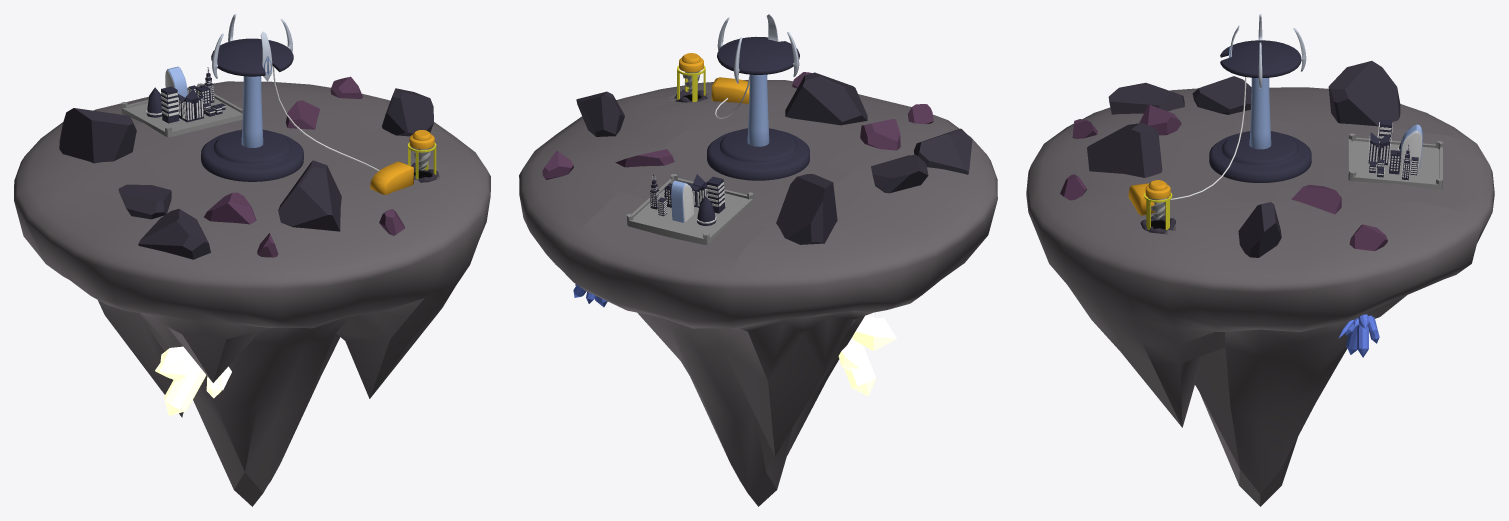
File: GeonovaModel2.fbx
The picture shows the model from 3 angles, left to right: view 1: azimuth 30°, elevation 25°; view 2: azimuth 150°, elevation 25°; view 3: azimuth 270°, elevation 25°; orthographic projection.
Visible parts, largest first — view 1: Cylinder.003, Cylinder.007, Cylinder, Cube.013, Cube.007, Sphere, Cube.011, Cube.016, Cube.010, Cylinder.001, Gem2, Cube.008 (+4 smaller); view 2: Cylinder.003, Cylinder.007, Cylinder, Cube.013, Cube.007, Sphere, Cube.011, Cube.010, Cube.016, Cylinder.001, Cube.008, Gem1.002 (+4 smaller); view 3: Cylinder.003, Cylinder.007, Cylinder, Cube.013, Cube.007, Sphere, Cube.011, Cube.016, Cube.010, Cylinder.001, Cube.014, Cube.008 (+1 smaller).
Boxes of the visible parts, x1=… form: Cylinder.003: x1=14, y1=81, x2=490, y2=506; Cylinder.007: x1=121, y1=66, x2=242, y2=137; Cylinder: x1=201, y1=129, x2=303, y2=181; Cube.013: x1=59, y1=108, x2=136, y2=163; Cube.007: x1=278, y1=160, x2=341, y2=231; Sphere: x1=211, y1=31, x2=293, y2=81; Cube.011: x1=138, y1=209, x2=210, y2=259; Cube.016: x1=382, y1=88, x2=433, y2=136; Cube.010: x1=118, y1=184, x2=171, y2=219; Cylinder.001: x1=241, y1=76, x2=263, y2=147; Gem2: x1=164, y1=364, x2=206, y2=415; Cube.008: x1=204, y1=192, x2=256, y2=224; Cylinder.003: x1=519, y1=80, x2=997, y2=506; Cylinder.007: x1=626, y1=174, x2=753, y2=244; Cylinder: x1=707, y1=128, x2=809, y2=180; Cube.013: x1=776, y1=174, x2=837, y2=244; Cube.007: x1=785, y1=72, x2=867, y2=125; Sphere: x1=717, y1=14, x2=799, y2=74; Cube.011: x1=914, y1=128, x2=972, y2=174; Cube.010: x1=871, y1=155, x2=928, y2=193; Cube.016: x1=576, y1=91, x2=624, y2=136; Cylinder.001: x1=747, y1=74, x2=769, y2=146; Cube.008: x1=860, y1=119, x2=900, y2=150; Gem1.002: x1=852, y1=317, x2=896, y2=350; Cylinder.003: x1=1026, y1=87, x2=1494, y2=506; Cylinder.007: x1=1348, y1=119, x2=1443, y2=190; Cylinder: x1=1209, y1=131, x2=1311, y2=182; Cube.013: x1=1328, y1=61, x2=1400, y2=126; Cube.007: x1=1087, y1=123, x2=1162, y2=177; Sphere: x1=1220, y1=25, x2=1301, y2=77; Cube.011: x1=1108, y1=82, x2=1184, y2=114; Cube.016: x1=1238, y1=202, x2=1281, y2=257; Cube.010: x1=1192, y1=76, x2=1251, y2=114; Cylinder.001: x1=1249, y1=78, x2=1271, y2=149; Cube.014: x1=1291, y1=184, x2=1341, y2=214; Cube.008: x1=1139, y1=104, x2=1181, y2=135.
Size of the model in its own units: 169 by 192 by 169.
